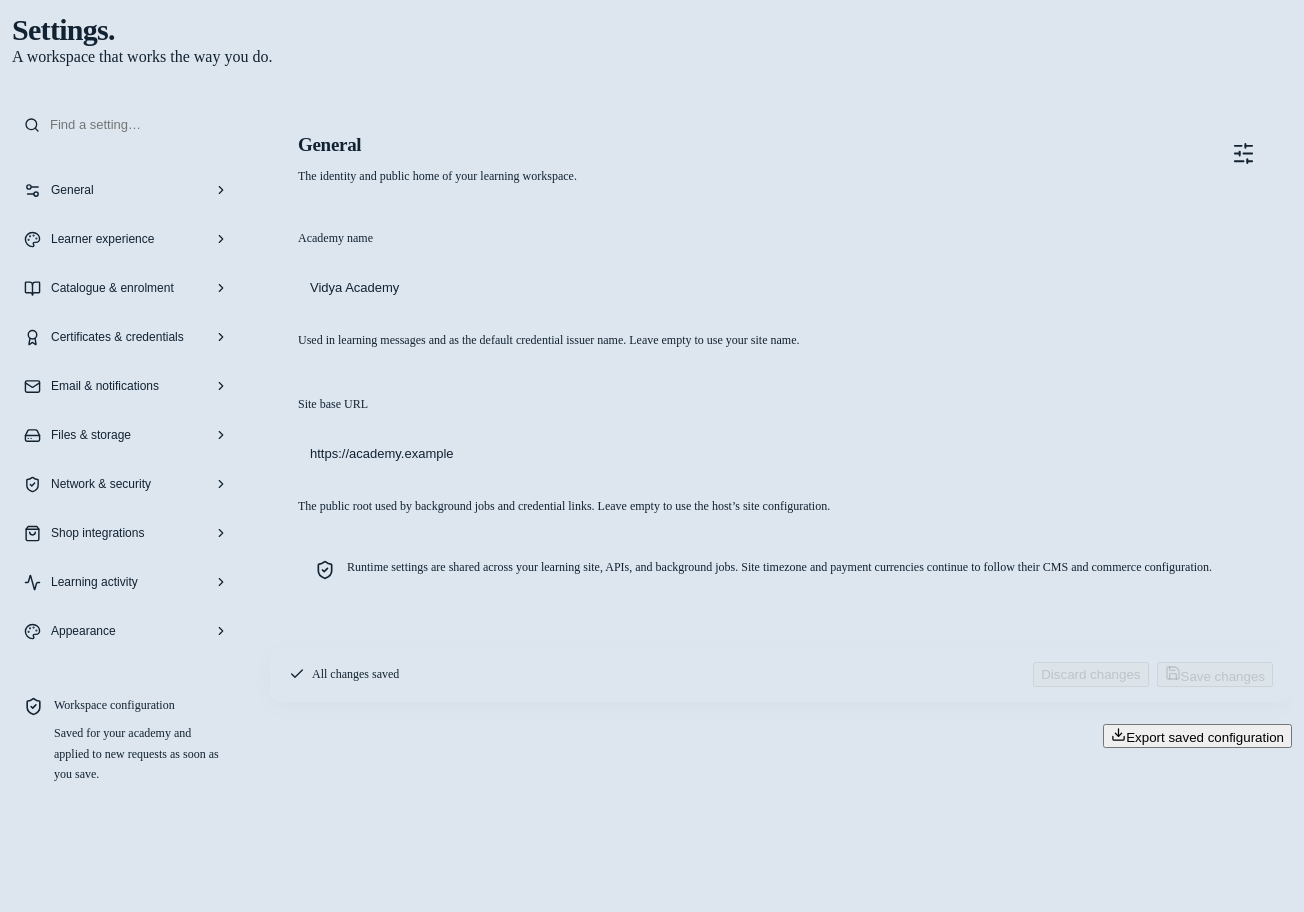
it: Settings workspace › retains shared outbound controls for general webhook and directory integrations
Expected: the field labelled "Academy name" is shown, 298,256 -> 1288,320
Click the button "Network & security" at (126, 484), box 12,462 -> 240,506
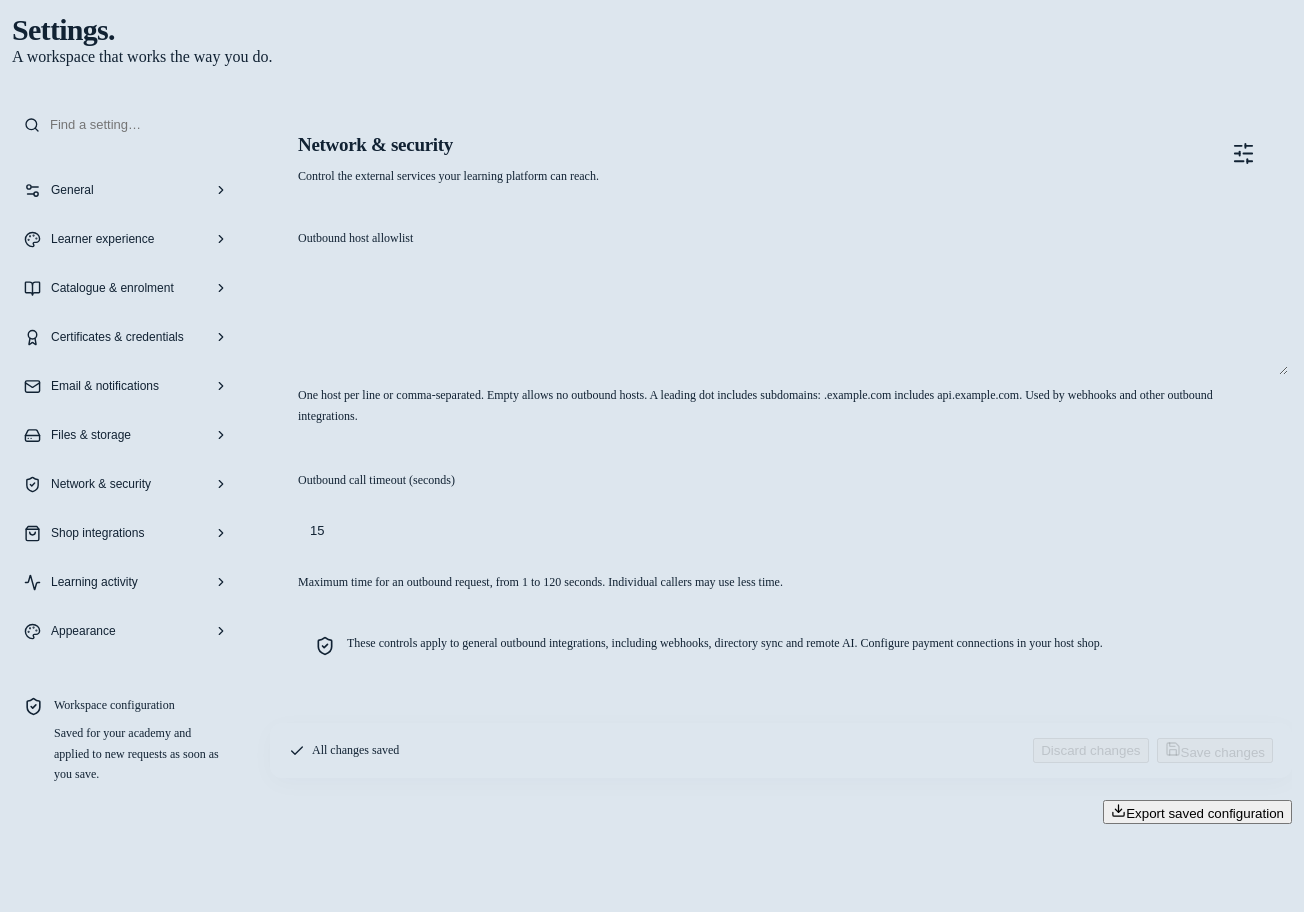
Type "hooks.example.test" into the text box labelled "Outbound host allowlist" at (793, 316), box 298,256 -> 1288,376
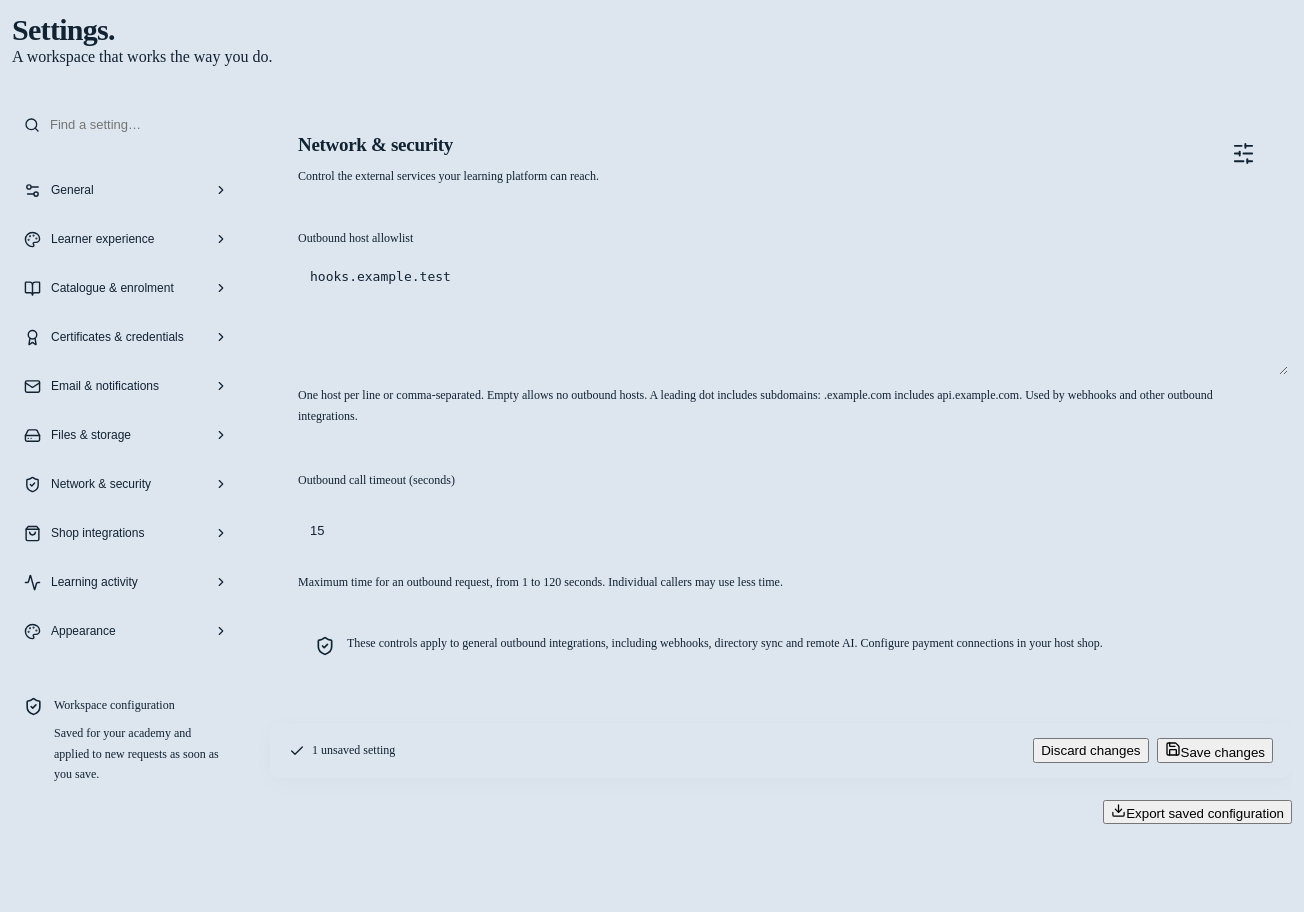
Expected: the text "general outbound integrations, including webhooks" is shown, 347,636 -> 1103,650
Click the button "Save changes" at (1215, 751), box 1156,738 -> 1273,764
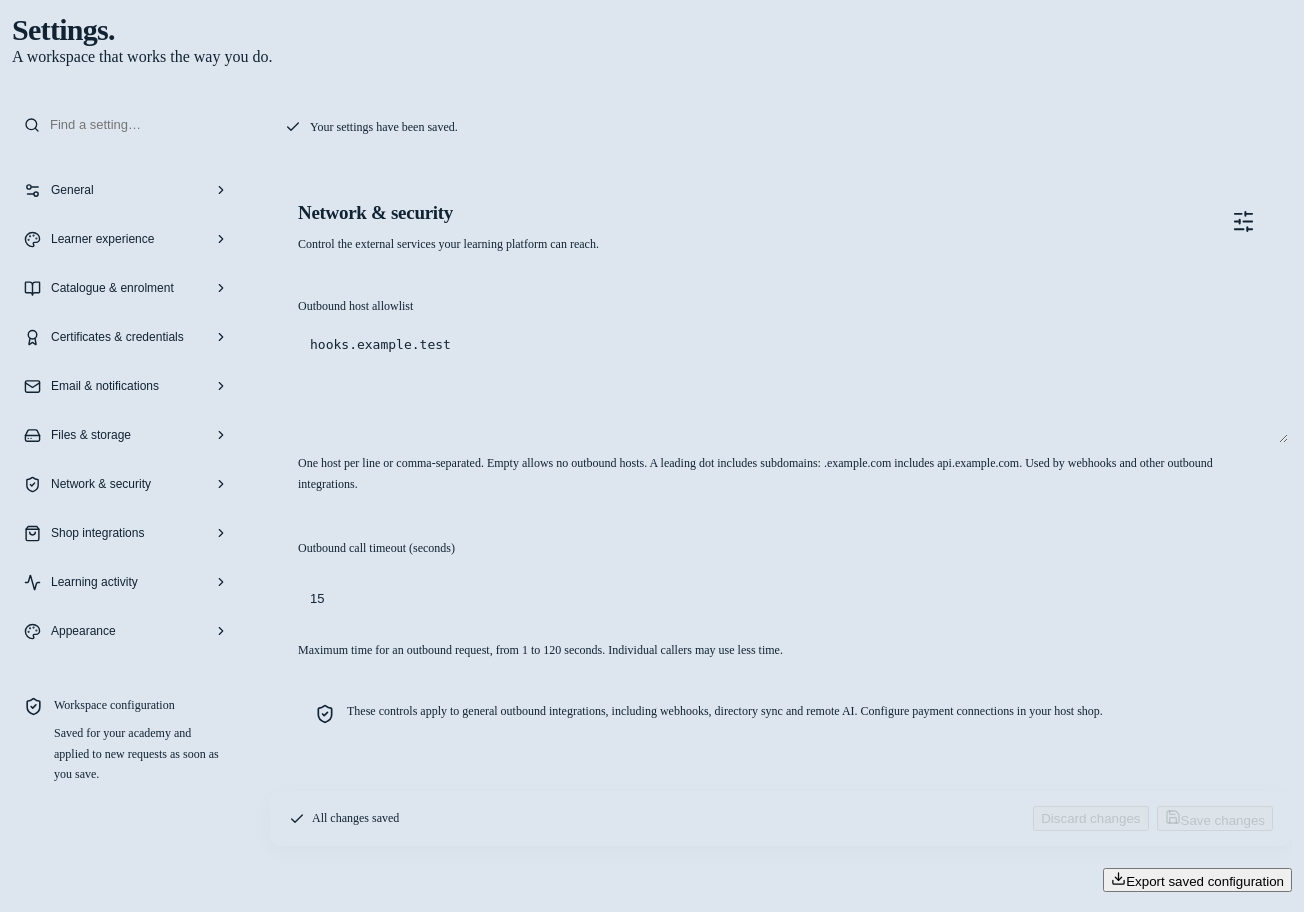
Expected: the text "Your settings have been saved." is shown, 285,119 -> 458,135
